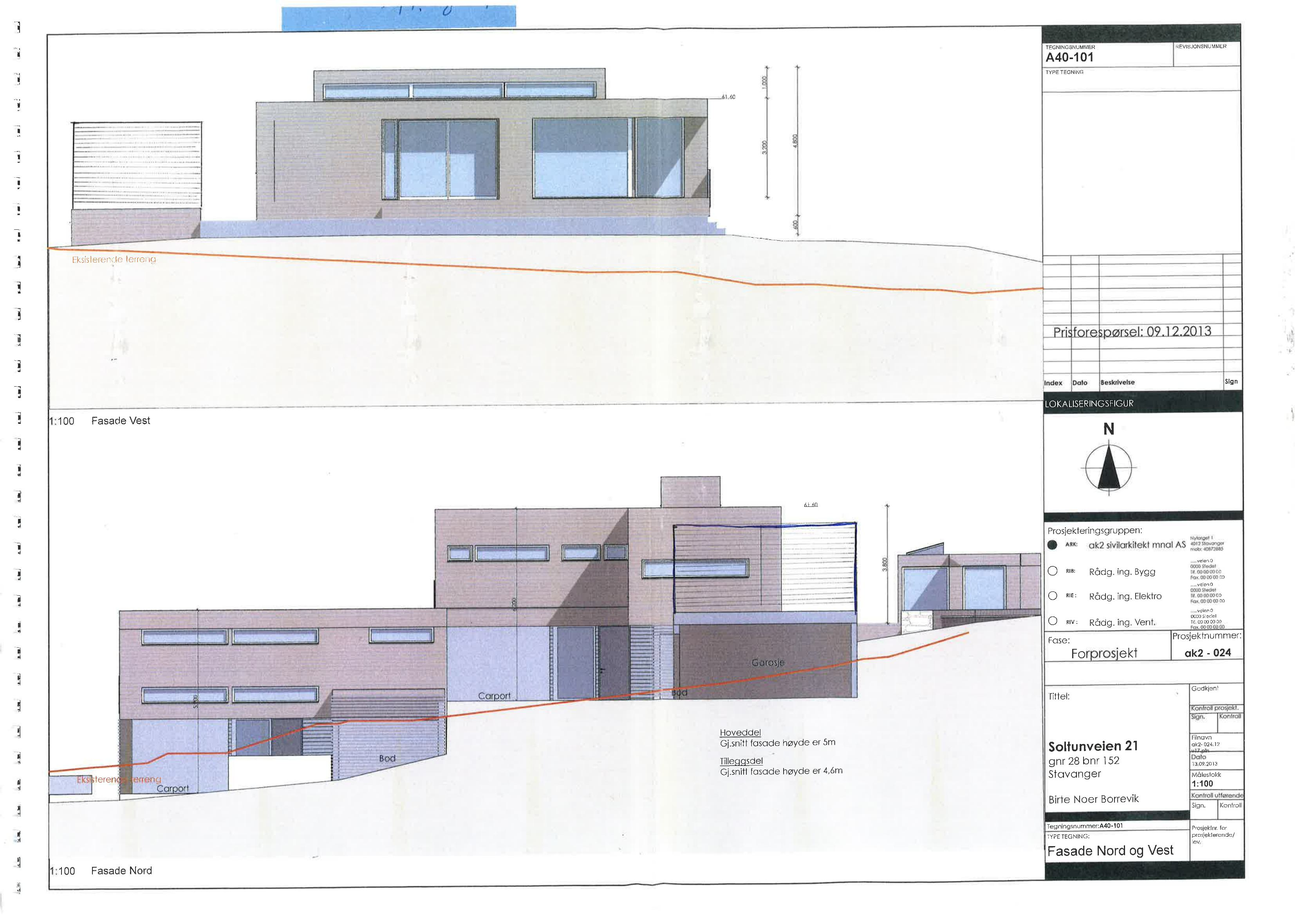fasade: (119, 474, 1039, 797), (69, 70, 724, 255)
